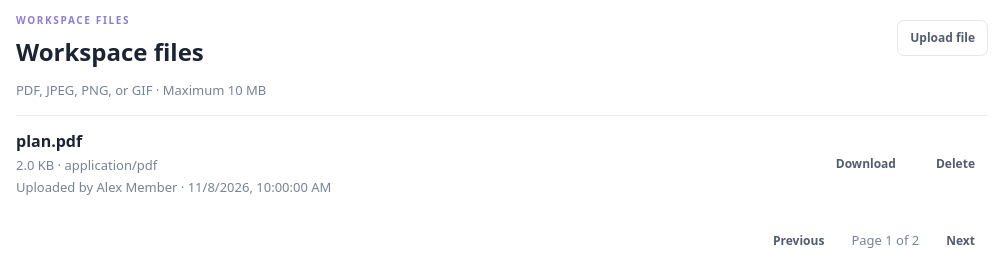
file manager › loads the next file page
The image size is (1005, 275).
Check: the text "plan.pdf" is shown, box [16,130,82,152]
Click the button "Next": coordinates (961, 240) [933,222,988,258]
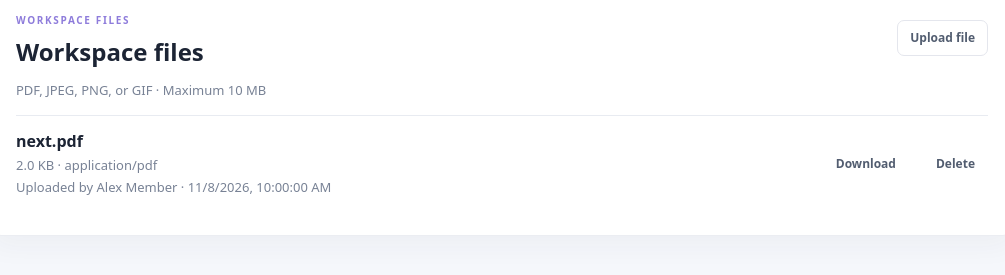
Check: the text "next.pdf" is shown, box [16,130,83,152]
